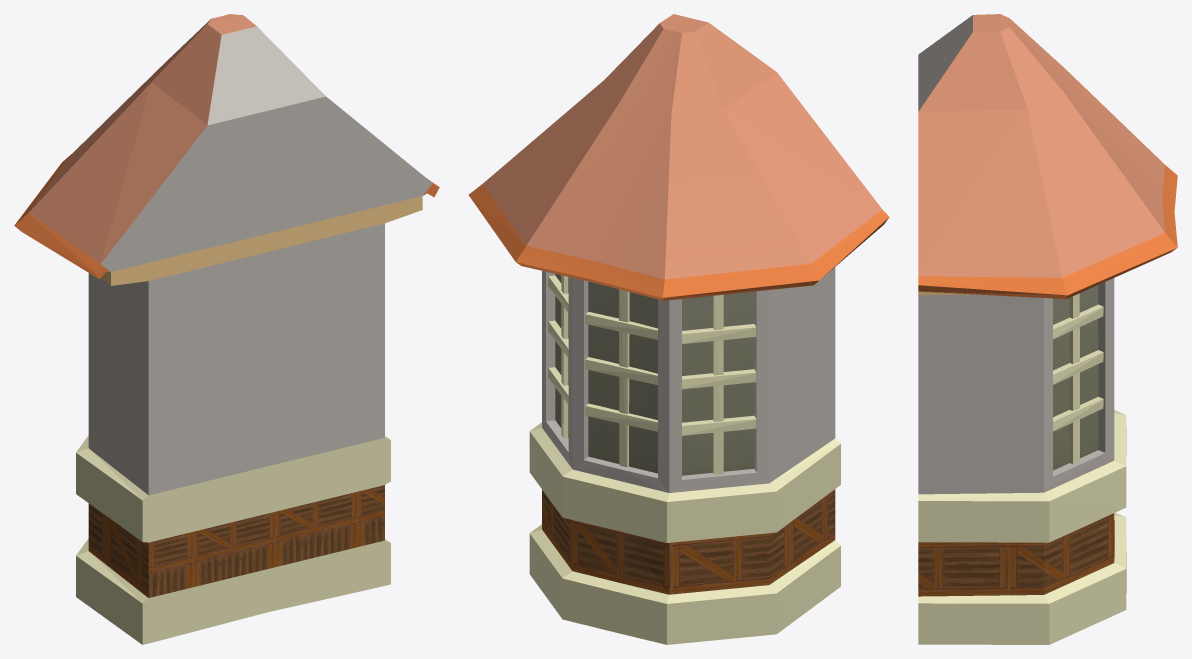
The model's file is BuildingWindow_A_01.fbx.
3 renders of one model, left to right at view 1: azimuth 30°, elevation 25°; view 2: azimuth 150°, elevation 25°; view 3: azimuth 270°, elevation 25°, orthographic.
Visible parts, largest first — view 1: BuildingWindow_A_01; view 2: BuildingWindow_A_01; view 3: BuildingWindow_A_01.
Boxes of the visible parts, x1=… form: BuildingWindow_A_01: x1=14, y1=14, x2=439, y2=644; BuildingWindow_A_01: x1=468, y1=14, x2=889, y2=644; BuildingWindow_A_01: x1=918, y1=14, x2=1177, y2=644.
Bounding box in the file's own units: 432 × 658 × 276.
